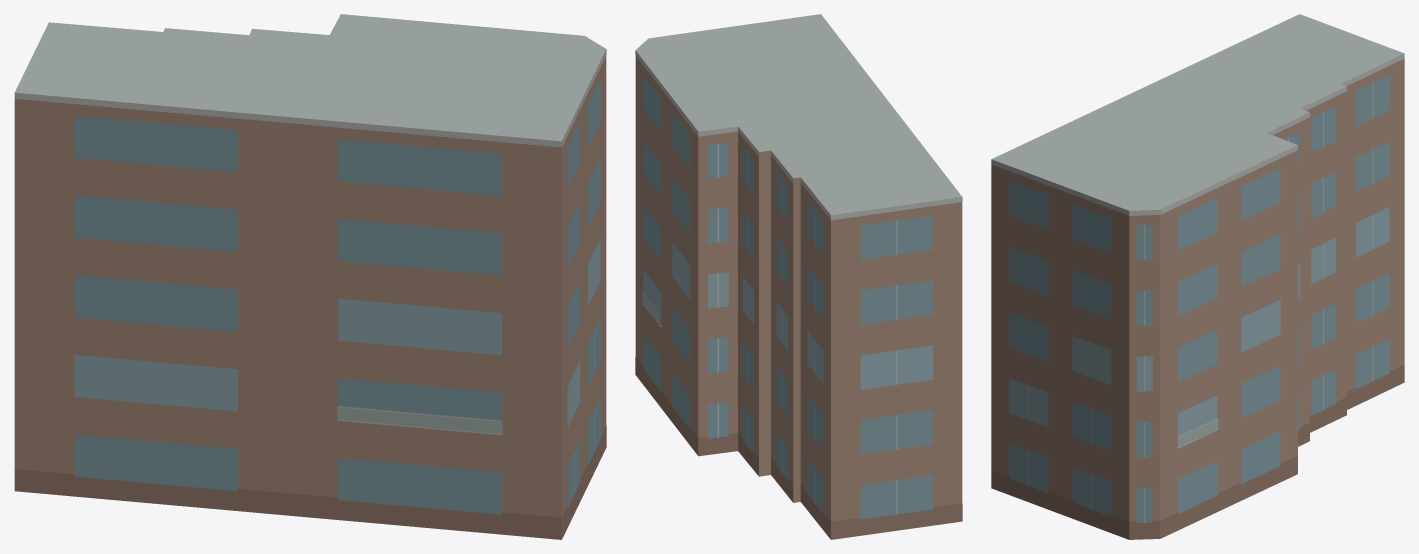
The model's file is survey-upis-32723871.glb.
3 renders of one model, left to right at view 1: azimuth 30°, elevation 25°; view 2: azimuth 150°, elevation 25°; view 3: azimuth 270°, elevation 25°, orthographic. The views are drawn at different scales.
Parts seen in each view (by area): view 1: survey-upis-32723871.tmp; view 2: survey-upis-32723871.tmp; view 3: survey-upis-32723871.tmp.
Boxes of the visible parts, <box> form: survey-upis-32723871.tmp: <box>14,14,606,539</box>; survey-upis-32723871.tmp: <box>635,14,962,539</box>; survey-upis-32723871.tmp: <box>991,14,1404,539</box>.
Size of the model in its own units: 20.28 by 15.8 by 17.99.
